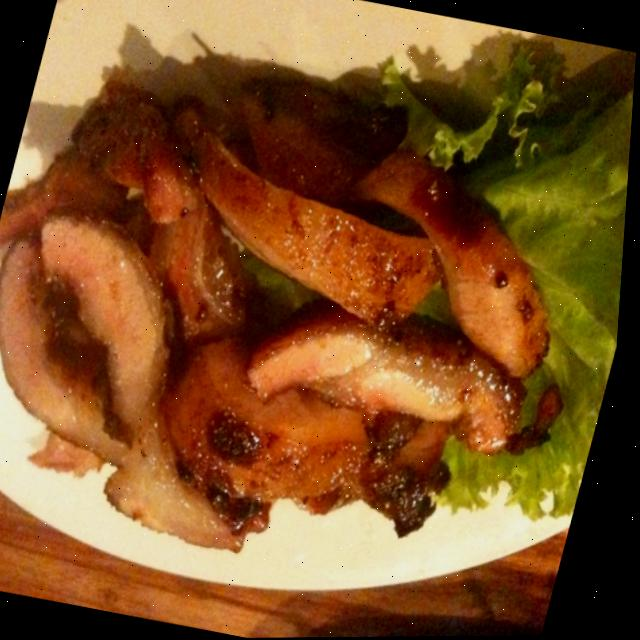猪肉菜式: (0, 8, 610, 600)
